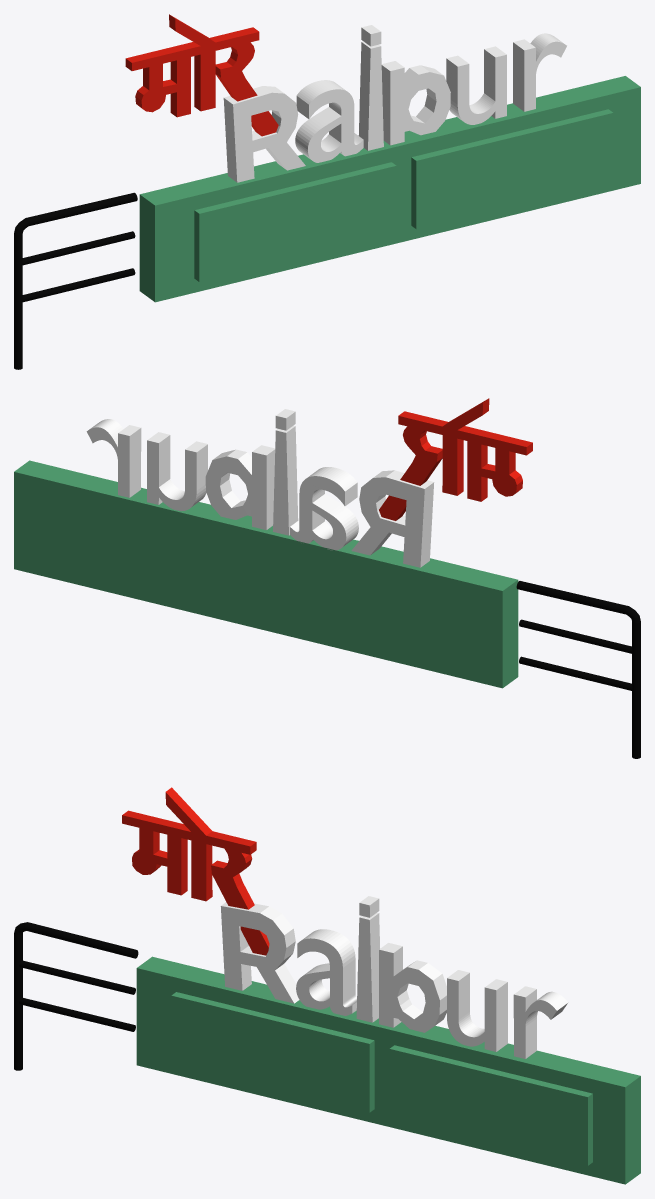
File: morraipur.fbx
3 views of the same model, one above another, from view 1: azimuth 30°, elevation 25°; view 2: azimuth 150°, elevation 25°; view 3: azimuth 330°, elevation 25° (orthographic).
Parts seen in each view (by area): view 1: Cube.001, Cube, Plane, Text.001, Plane.001, Plane.004, Cylinder, Text, Plane.002; view 2: Cube, Plane, Text.001, Plane.001, Plane.004, Cylinder, Text, Plane.002; view 3: Cube.001, Cube, Plane, Text.001, Plane.001, Plane.004, Cylinder, Text, Plane.002.
Part boxes in pixels (<box>): Cube.001: <box>194,109,613,281</box>; Cube: <box>139,76,640,302</box>; Plane: <box>125,14,278,136</box>; Text.001: <box>446,33,566,124</box>; Plane.001: <box>223,86,305,182</box>; Plane.004: <box>381,61,450,145</box>; Cylinder: <box>14,192,137,369</box>; Text: <box>295,80,363,162</box>; Plane.002: <box>358,25,383,150</box>; Cube: <box>14,460,518,688</box>; Plane: <box>379,398,532,520</box>; Text.001: <box>86,419,207,511</box>; Plane.001: <box>351,470,434,567</box>; Plane.004: <box>205,445,275,530</box>; Cylinder: <box>516,581,640,758</box>; Text: <box>290,467,358,550</box>; Plane.002: <box>273,409,298,535</box>; Cube.001: <box>171,992,592,1165</box>; Cube: <box>136,956,640,1184</box>; Plane: <box>122,787,269,955</box>; Text.001: <box>447,970,568,1058</box>; Plane.001: <box>220,902,299,1003</box>; Plane.004: <box>379,943,446,1032</box>; Cylinder: <box>14,922,138,1070</box>; Text: <box>296,929,356,1015</box>; Plane.002: <box>356,896,379,1022</box>.
Bounding box in the file's own units: 572 × 280 × 32.75.
